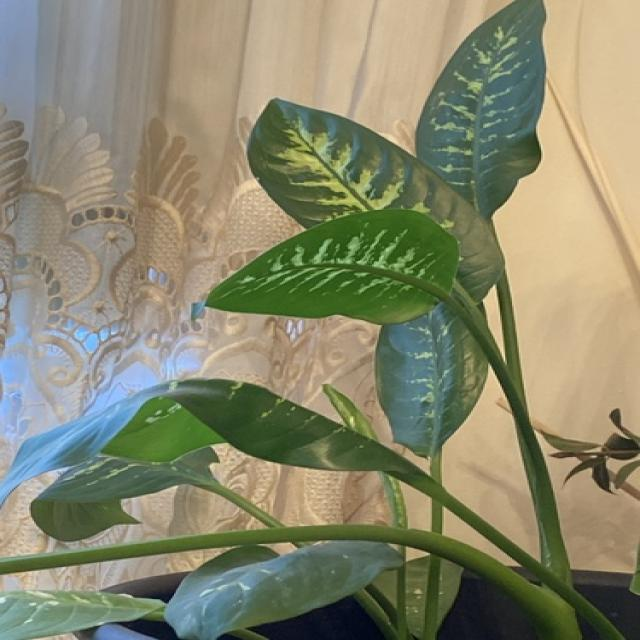dieffenbachia-oVHx: (0, 0, 627, 640)
